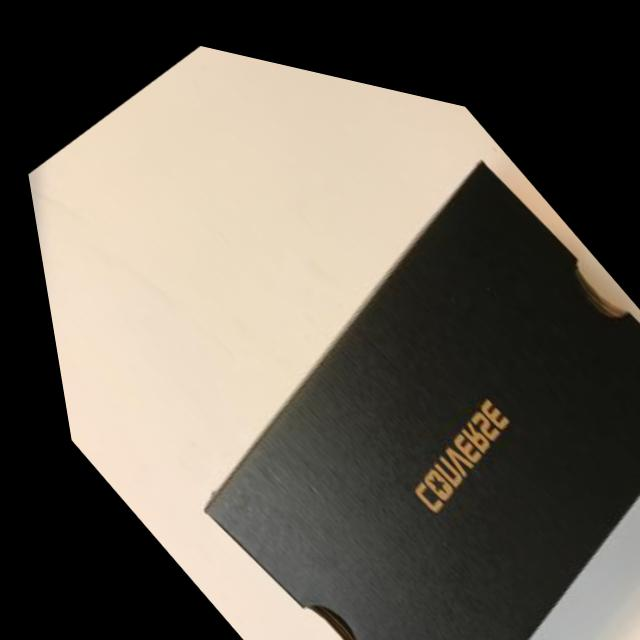cardboard: (35, 16, 640, 640)
